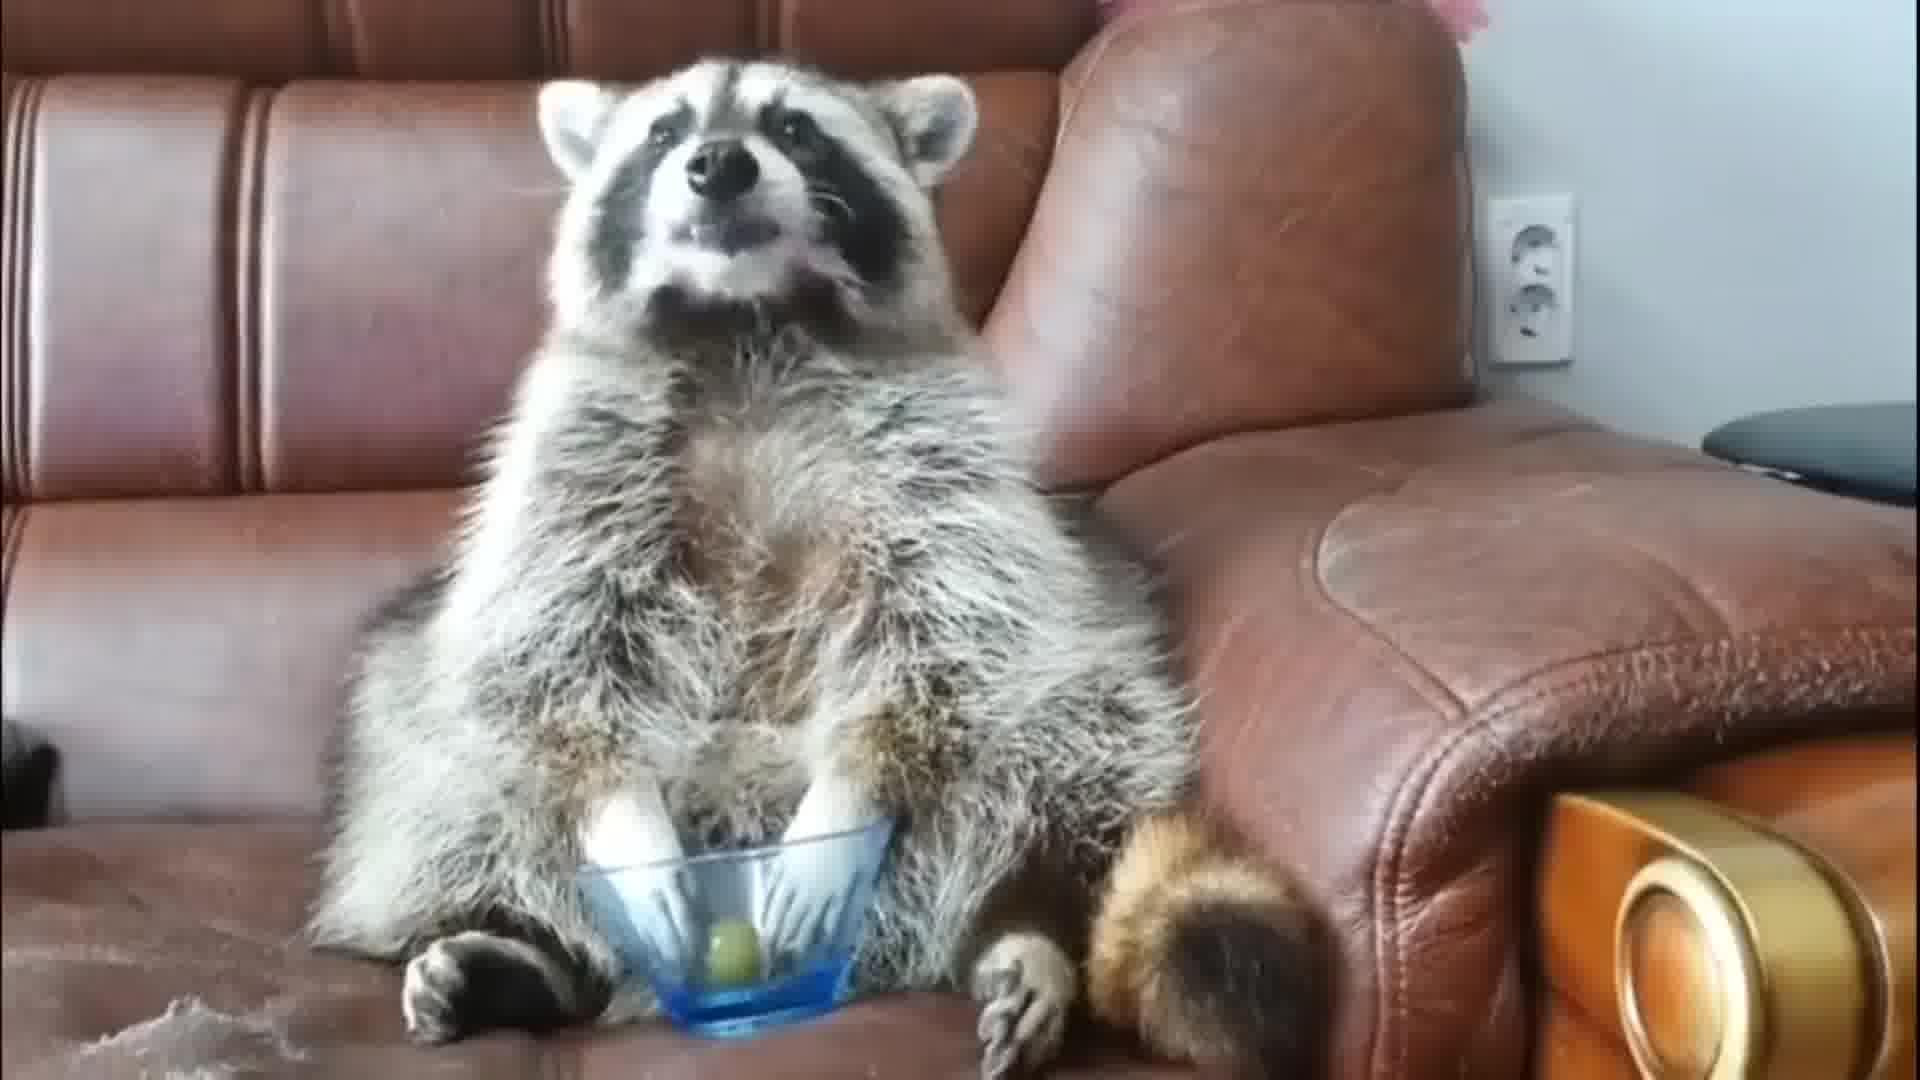raccoon: (284, 34, 1352, 1080)
